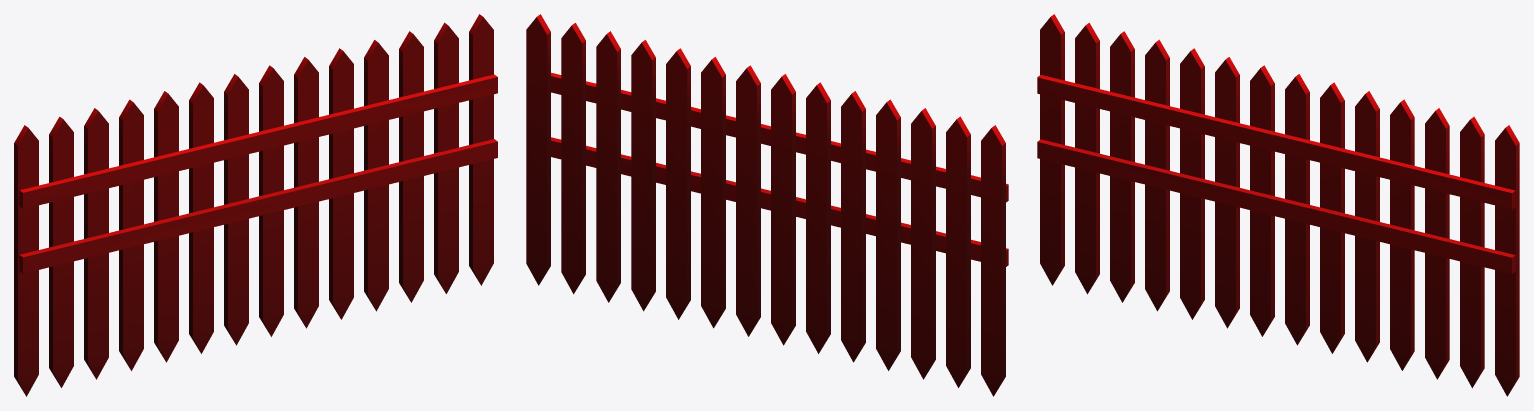
The model's file is WhitePicketFence.glb.
The picture shows the model from 3 angles, left to right: view 1: azimuth 30°, elevation 25°; view 2: azimuth 150°, elevation 25°; view 3: azimuth 330°, elevation 25°; orthographic projection.
Parts seen in each view (by area): view 1: WhitePicketFence; view 2: WhitePicketFence; view 3: WhitePicketFence.
Part boxes in pixels (x1=…): WhitePicketFence: x1=14, y1=14, x2=497, y2=396; WhitePicketFence: x1=526, y1=14, x2=1008, y2=396; WhitePicketFence: x1=1037, y1=14, x2=1519, y2=396.
Bounding box in the file's own units: 17.01 × 9.24 × 0.4837.
